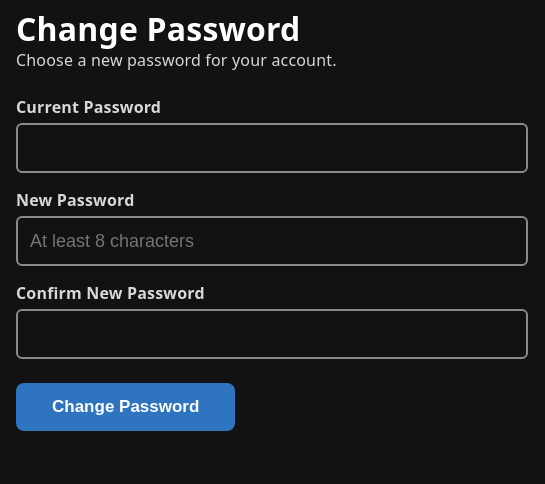
Test: ChangePasswordScreen errors (spec 016) › marks and focuses the right field when the new password is too short
The width and height of the screenshot is (545, 484).
Type "old-secret" into the password field labelled "Current Password" at (272, 148), box [16,123,528,173]
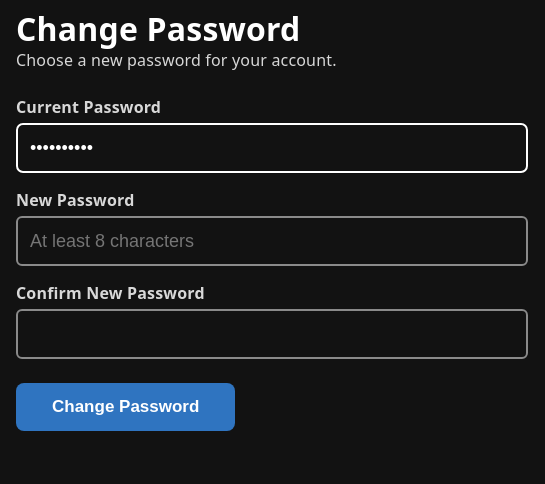
Type "short" into the password field labelled "New Password" at (272, 241), box [16,216,528,266]
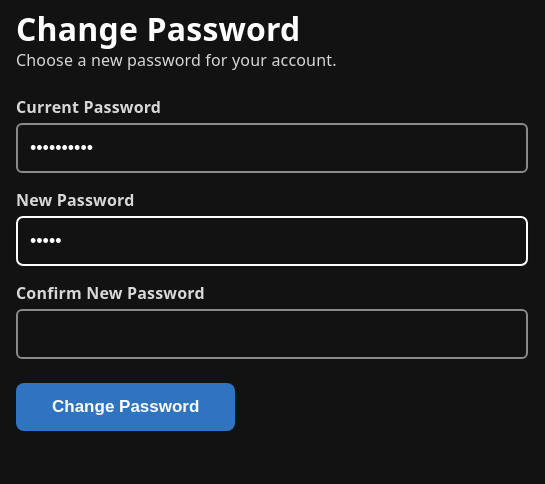
Type "short" into the password field labelled "Confirm New Password" at (272, 334), box [16,310,528,360]
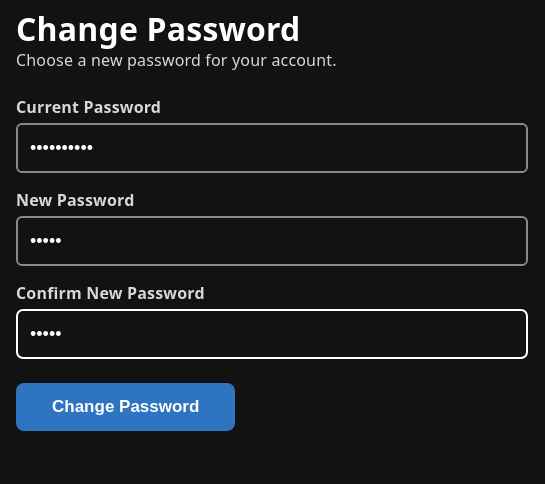
Click the button "Change Password" at (126, 408), box [16,384,235,432]
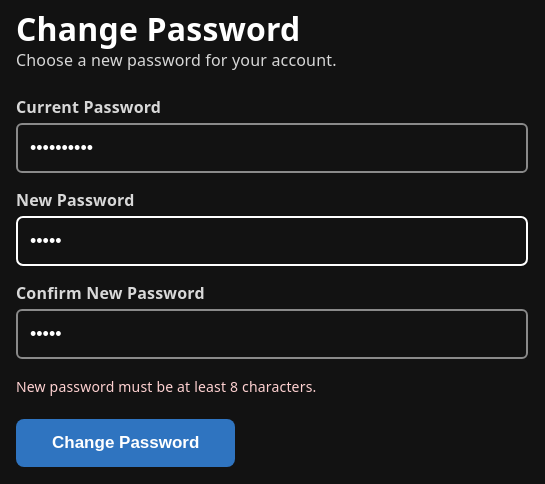
Now the message "New password must be at least 8 characters." is shown, box [16,378,316,396]
